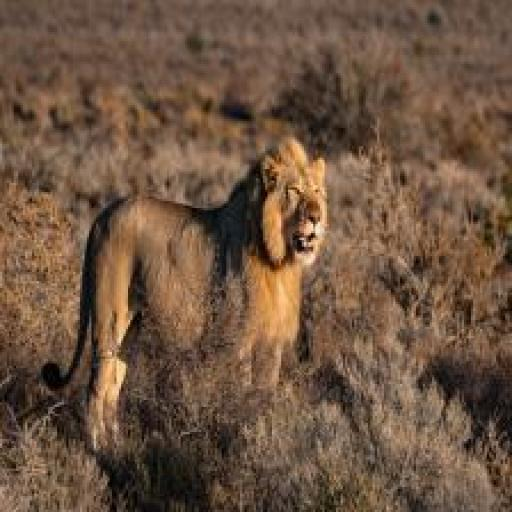lion: (48, 121, 333, 458)
